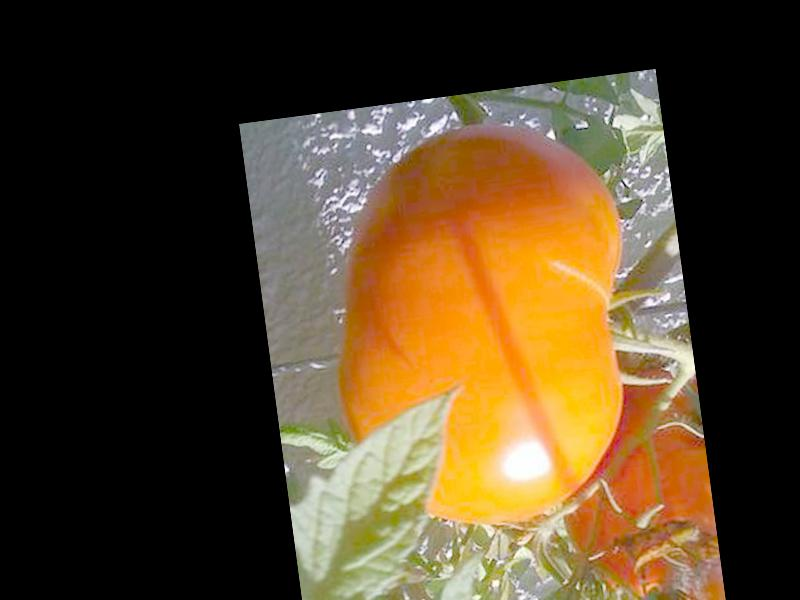Tomato: (308, 109, 658, 543)
